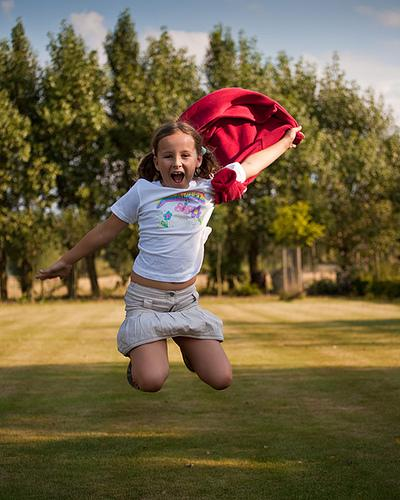person: (37, 112, 301, 393)
